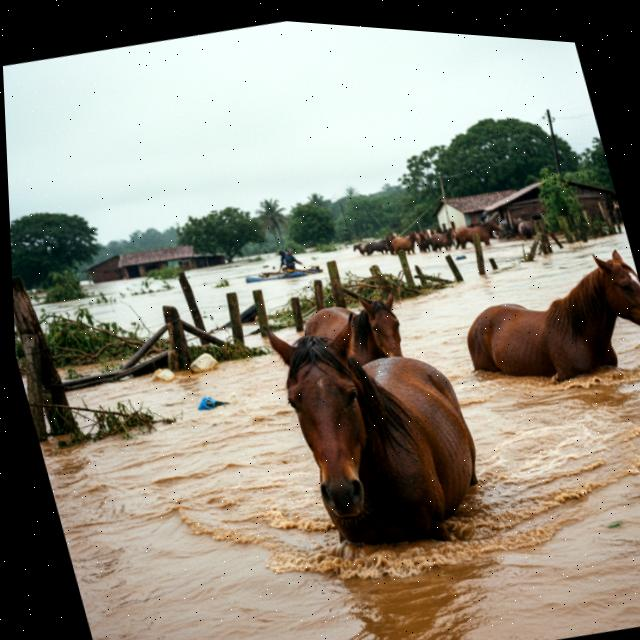civilian: (280, 243, 306, 273), (274, 243, 292, 273)
horse: (253, 291, 506, 583), (447, 232, 640, 416), (280, 278, 417, 389), (449, 213, 507, 254), (386, 228, 425, 258), (425, 222, 459, 255), (360, 232, 393, 260), (410, 225, 437, 256), (379, 230, 401, 256), (348, 238, 371, 260)
